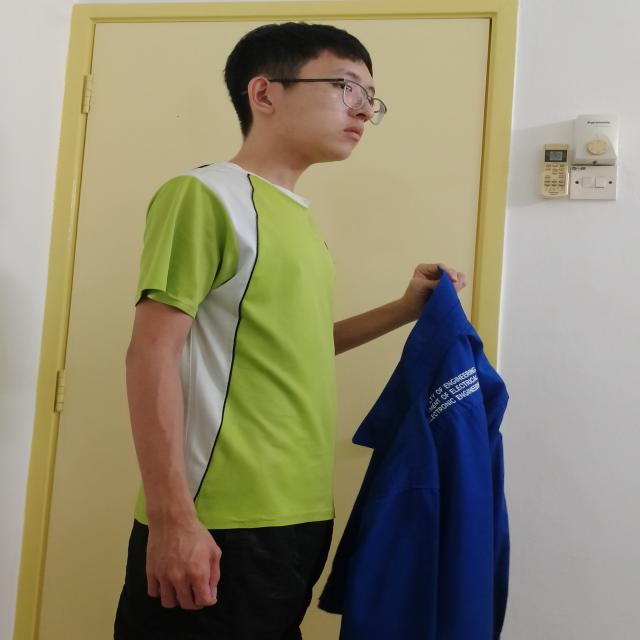person_without_labcoat: (114, 23, 509, 640)
